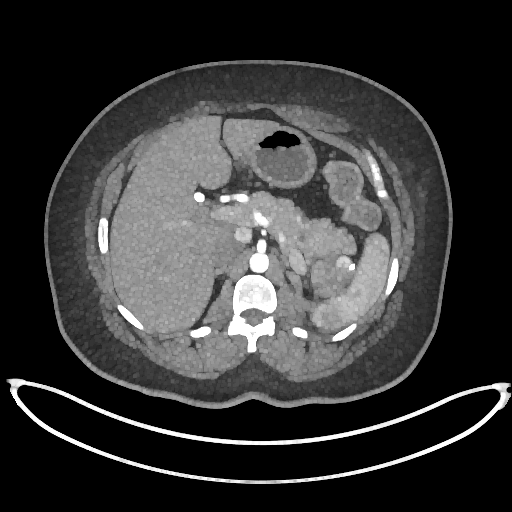Lesion: (335, 256, 353, 270)
